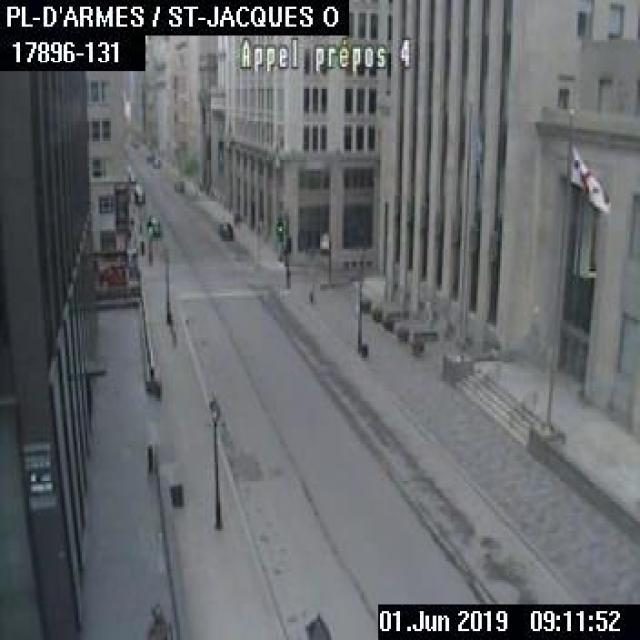vehicle: (145, 215, 160, 235), (218, 221, 231, 238), (133, 184, 144, 204), (174, 177, 184, 191), (145, 150, 153, 160), (152, 158, 159, 166)
